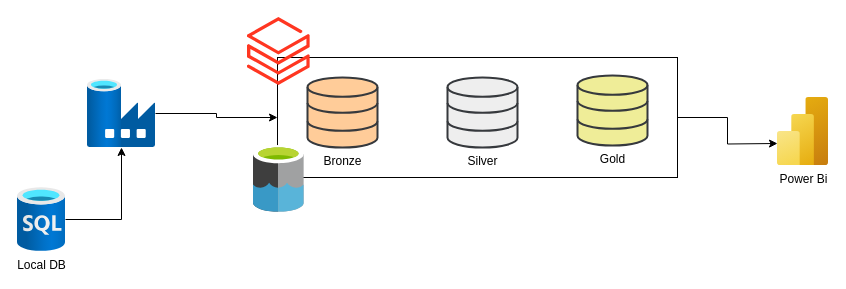
Image size: 846x289. Some labels were removed from this diagram. The box of each missing label's shape, as (x1, y1, x2, y2) in pixels:
Data Factory: (87, 79, 155, 147)
Data Lake: (253, 145, 304, 212)
Databriks: (247, 17, 310, 85)
